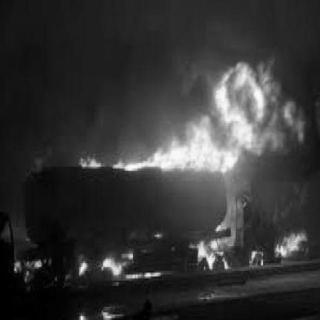Fire: (187, 218, 230, 271), (248, 248, 266, 265)
